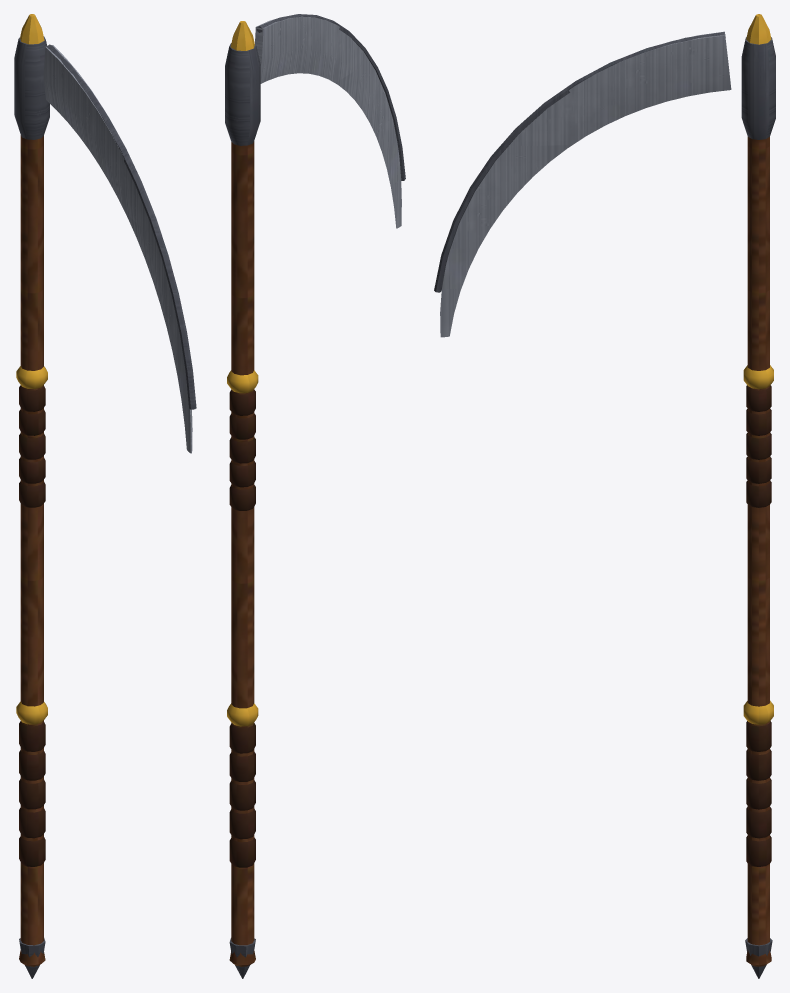
The model's file is morwen_scythe.glb.
3 renders of one model, left to right at view 1: azimuth 30°, elevation 25°; view 2: azimuth 150°, elevation 25°; view 3: azimuth 270°, elevation 25°, orthographic.
Visible parts, largest first — view 1: morwen_scythe; view 2: morwen_scythe; view 3: morwen_scythe.
Part boxes in pixels (x1,y1,x2,y2): morwen_scythe: (14,14,196,978); morwen_scythe: (225,14,405,978); morwen_scythe: (434,14,775,978).
Size of the model in its own units: 0.068 by 2.01 by 0.6467.
Materials: 5 (5 with a texture image).
